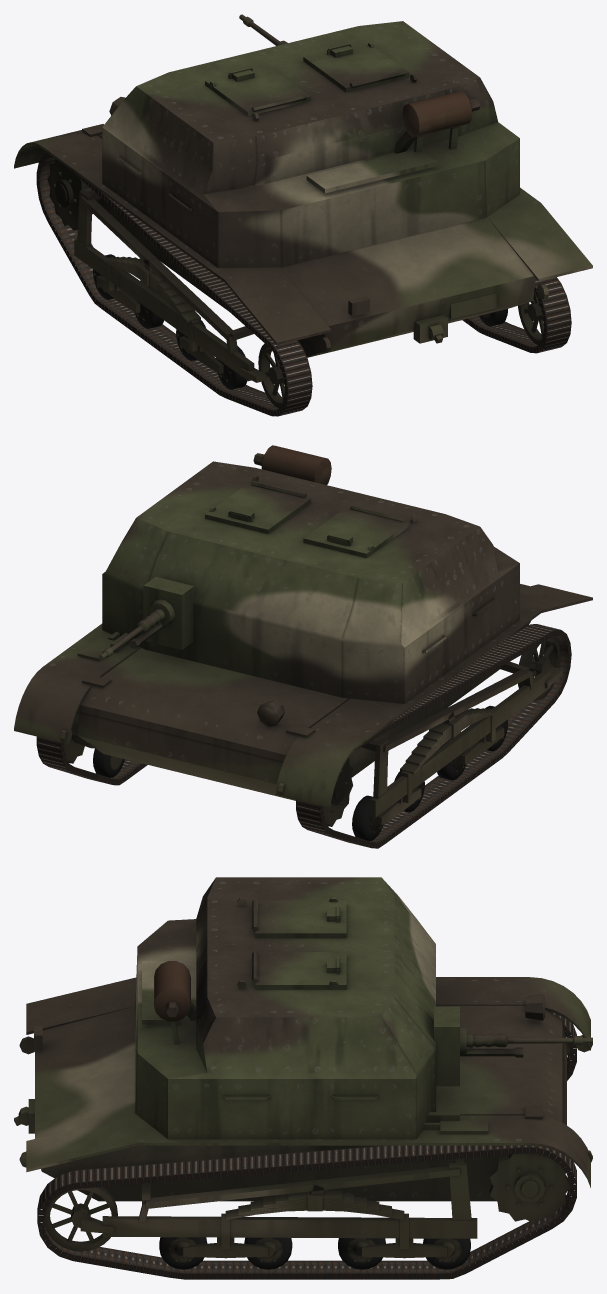
3 views of the same model, one above another, from view 1: azimuth 30°, elevation 25°; view 2: azimuth 150°, elevation 25°; view 3: azimuth 270°, elevation 25° (orthographic). The views are drawn at different scales.
Parts seen in each view (by area): view 1: Chassis, Chenille_Gauche_01, Chenille_Droite_01, Roue_G1, Roue_G6, Roue_D6; view 2: Chassis, Chenille_Gauche_01, Tourelle_01, Chenille_Droite_01, Roue_G6, Roue_G1, Roue_G2, Canon_01, Roue_D2; view 3: Chassis, Chenille_Droite_01, Roue_D1, Tourelle_01, Roue_D6, Canon_01, Roue_D5, Roue_D4, Roue_D3, Roue_D2, Axe_Canon_01.
Part boxes in pixels (<box>): Chassis: <box>14,21,592,382</box>; Chenille_Gauche_01: <box>36,152,312,416</box>; Chenille_Droite_01: <box>462,277,571,353</box>; Roue_G1: <box>47,158,92,230</box>; Roue_G6: <box>258,343,284,407</box>; Roue_D6: <box>518,292,543,344</box>; Chassis: <box>14,445,592,825</box>; Chenille_Gauche_01: <box>296,624,571,848</box>; Tourelle_01: <box>143,576,194,649</box>; Chenille_Droite_01: <box>36,736,147,785</box>; Roue_G6: <box>518,636,560,700</box>; Roue_G1: <box>323,757,353,826</box>; Roue_G2: <box>352,795,383,840</box>; Canon_01: <box>98,608,165,659</box>; Roue_D2: <box>93,748,124,777</box>; Chassis: <box>14,877,592,1258</box>; Chenille_Droite_01: <box>37,1145,576,1279</box>; Roue_D1: <box>489,1153,571,1223</box>; Tourelle_01: <box>434,1006,466,1086</box>; Roue_D6: <box>44,1183,117,1251</box>; Canon_01: <box>466,1033,592,1047</box>; Roue_D5: <box>159,1237,207,1269</box>; Roue_D4: <box>244,1237,292,1269</box>; Roue_D3: <box>338,1238,385,1269</box>; Roue_D2: <box>423,1238,470,1269</box>; Axe_Canon_01: <box>460,1046,523,1057</box>.
Size of the model in its own units: 180 by 266 by 136.
Materials: 3 (3 with a texture image).
